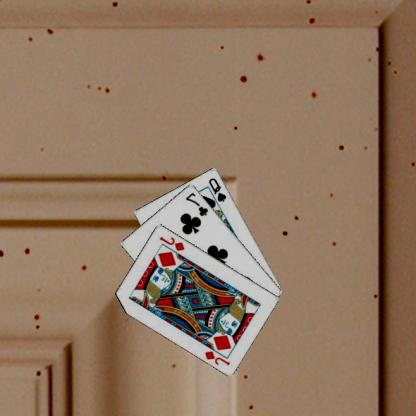7C: (185, 190, 211, 218)
JD: (158, 233, 188, 252), (204, 348, 233, 366)
QS: (207, 175, 230, 203)
